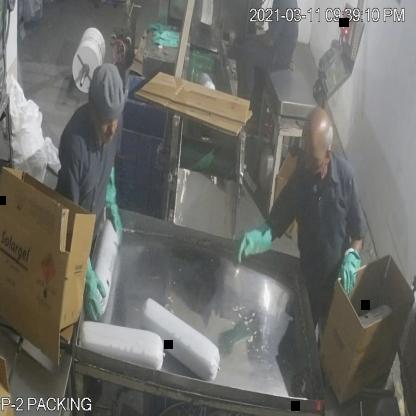glove: (231, 205, 281, 270), (340, 246, 363, 296)
